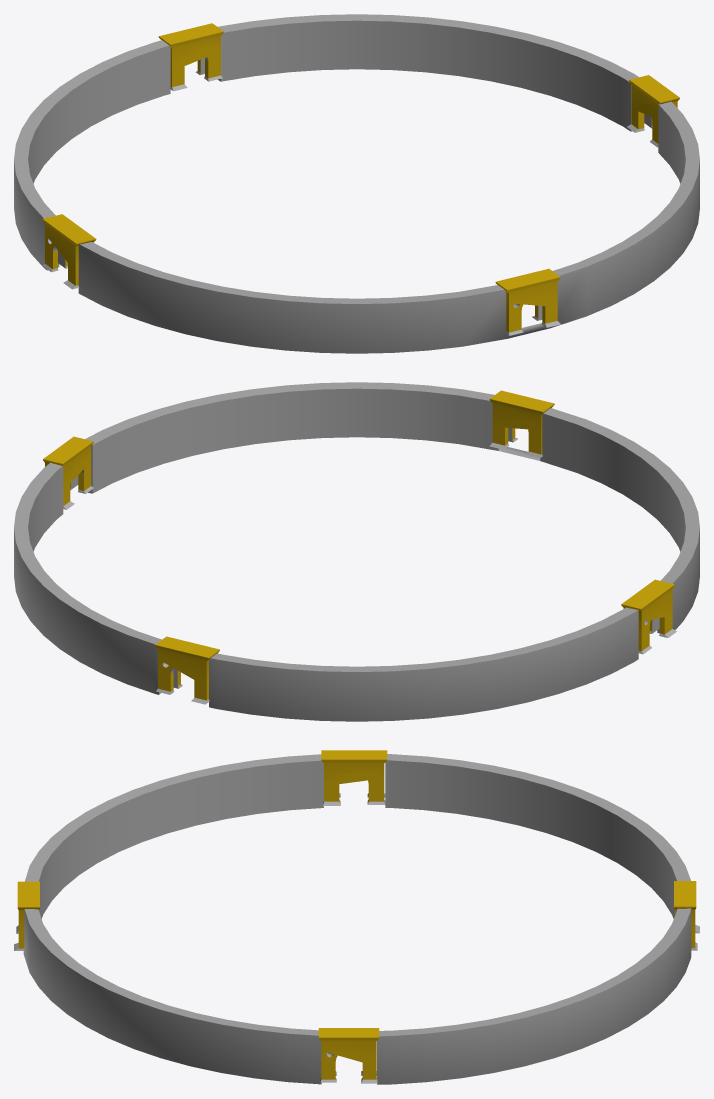
The model's file is EmCity_wall.fbx.
3 views of the same model, one above another, from view 1: azimuth 30°, elevation 25°; view 2: azimuth 150°, elevation 25°; view 3: azimuth 270°, elevation 25° (orthographic). The views are drawn at different scales.
Visible parts, largest first — view 1: polySurface18, pMunchArchway2, pMunchArchway, pMunchArchway3, pMunchArchway1; view 2: polySurface18, pMunchArchway2, pMunchArchway, pMunchArchway3, pMunchArchway1; view 3: polySurface18, pMunchArchway3, pMunchArchway1, pMunchArchway, pMunchArchway2.
Part boxes in pixels (x1,y1,x2,y2): polySurface18: (14,14,699,353); pMunchArchway2: (158,23,223,91); pMunchArchway: (495,268,560,335); pMunchArchway3: (42,214,96,289); pMunchArchway1: (627,75,679,147); polySurface18: (14,382,699,721); pMunchArchway2: (155,636,219,704); pMunchArchway: (489,390,554,457); pMunchArchway3: (621,579,676,654); pMunchArchway1: (43,436,93,509); polySurface18: (23,754,691,1084); pMunchArchway3: (321,750,387,805); pMunchArchway1: (318,1028,379,1083); pMunchArchway: (14,881,39,950); pMunchArchway2: (674,881,699,950).
Size of the model in its own units: 258 by 20.96 by 258.
